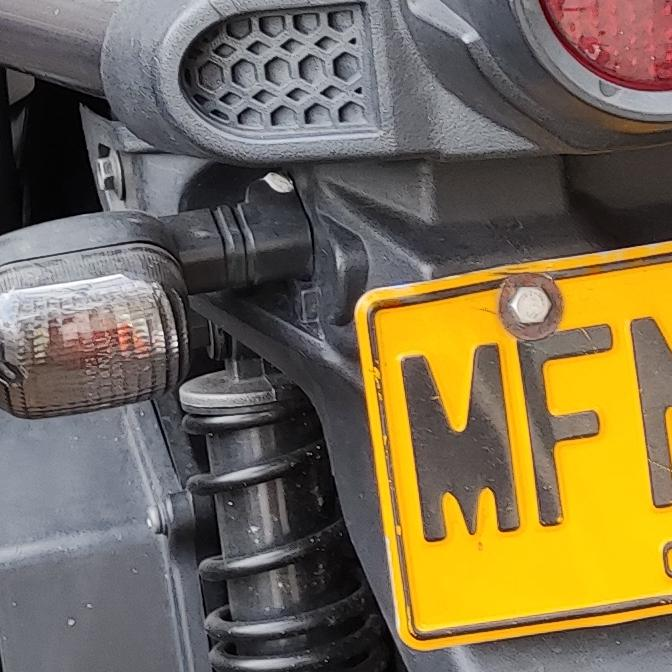plates: (351, 248, 672, 658)
